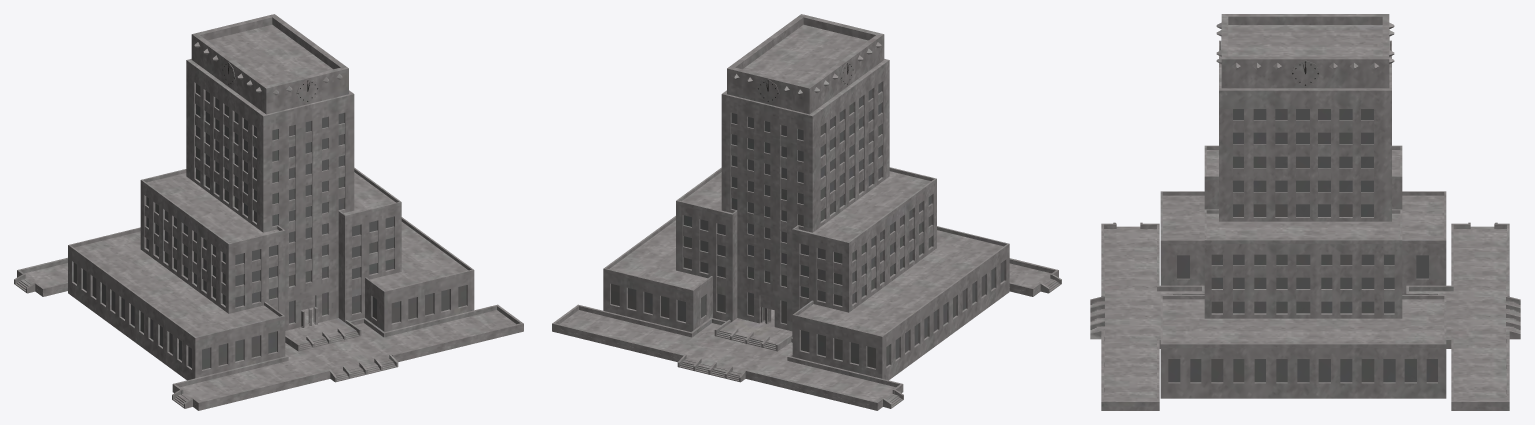
File: houston_city_hall-transformed.glb
3 views of the same model, side by side, from view 1: azimuth 30°, elevation 25°; view 2: azimuth 150°, elevation 25°; view 3: azimuth 270°, elevation 25° (orthographic). The views are drawn at different scales.
Parts seen in each view (by area): view 1: polySurface7_lambert3_0; view 2: polySurface7_lambert3_0; view 3: polySurface7_lambert3_0.
Part boxes in pixels (box(x1,y1,x2,y2)): polySurface7_lambert3_0: box(14, 14, 523, 410); polySurface7_lambert3_0: box(552, 14, 1061, 410); polySurface7_lambert3_0: box(1090, 14, 1520, 410).
Bounding box in the file's own units: 0.1634 × 0.1188 × 0.1624.
Materials: 1 (1 with a texture image).
